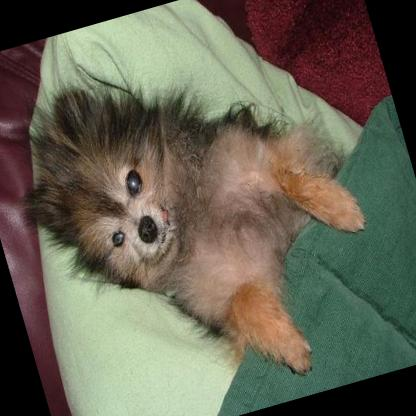Pomeranian: (0, 10, 403, 416)
